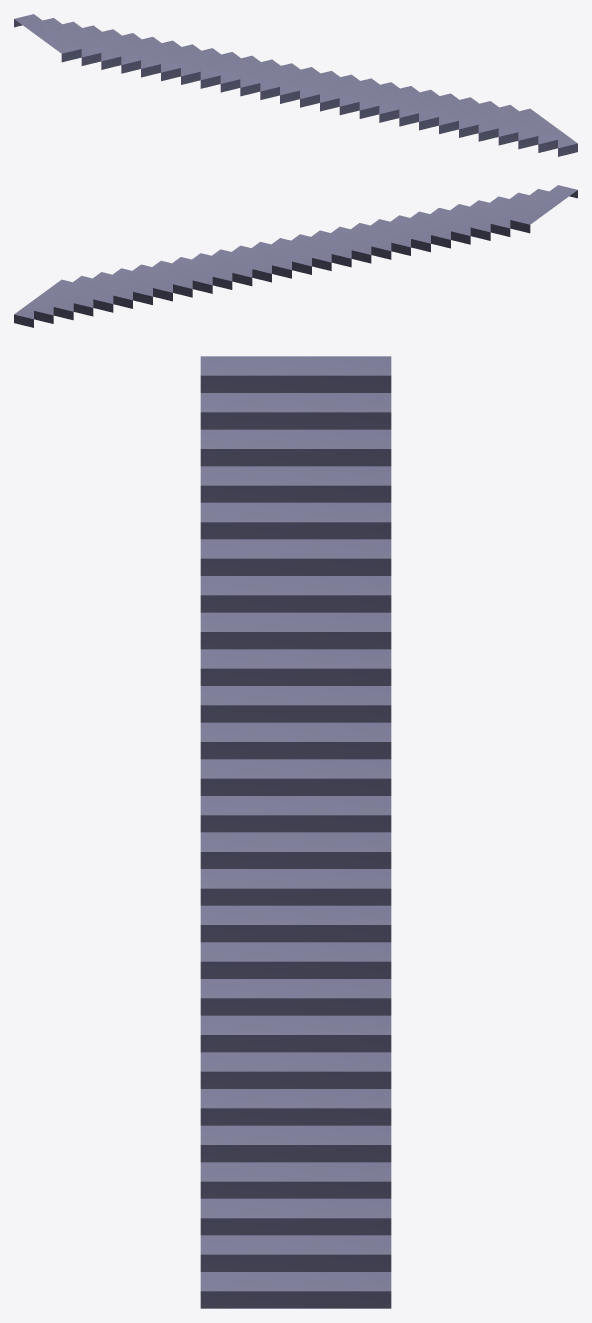
File: Stairway.fbx
3 views of the same model, one above another, from view 1: azimuth 30°, elevation 25°; view 2: azimuth 150°, elevation 25°; view 3: azimuth 270°, elevation 25° (orthographic). The views are drawn at different scales.
Visible parts, largest first — view 1: Cube.001; view 2: Cube.001; view 3: Cube.001.
Boxes of the visible parts, bbox=[...] form: Cube.001: bbox=[14, 14, 577, 156]; Cube.001: bbox=[14, 185, 577, 327]; Cube.001: bbox=[200, 356, 391, 1308].
Size of the model in its own units: 2839 by 1179 by 455.
